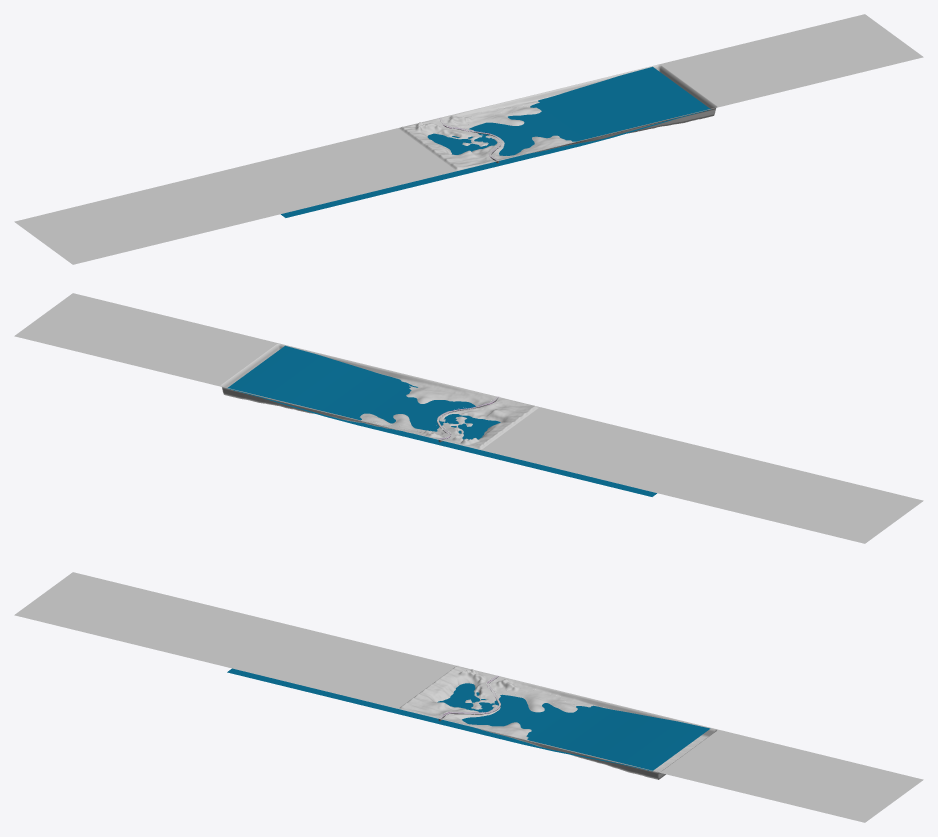
The model's file is beach_2.FBX.
3 views of the same model, one above another, from view 1: azimuth 30°, elevation 25°; view 2: azimuth 150°, elevation 25°; view 3: azimuth 330°, elevation 25° (orthographic).
Parts seen in each view (by area): view 1: Plane029, Water, Object001; view 2: Plane029, Water, Object001; view 3: Plane029, Water, Object001.
Boxes of the visible parts, <box> form: Plane029: <box>14,14,923,264</box>; Water: <box>281,66,710,217</box>; Object001: <box>398,64,718,170</box>; Plane029: <box>14,293,923,543</box>; Water: <box>227,345,656,496</box>; Object001: <box>219,343,539,449</box>; Plane029: <box>14,572,923,822</box>; Water: <box>227,668,710,771</box>; Object001: <box>398,665,718,779</box>.
Size of the model in its own units: 20000 by 2400 by 325.
